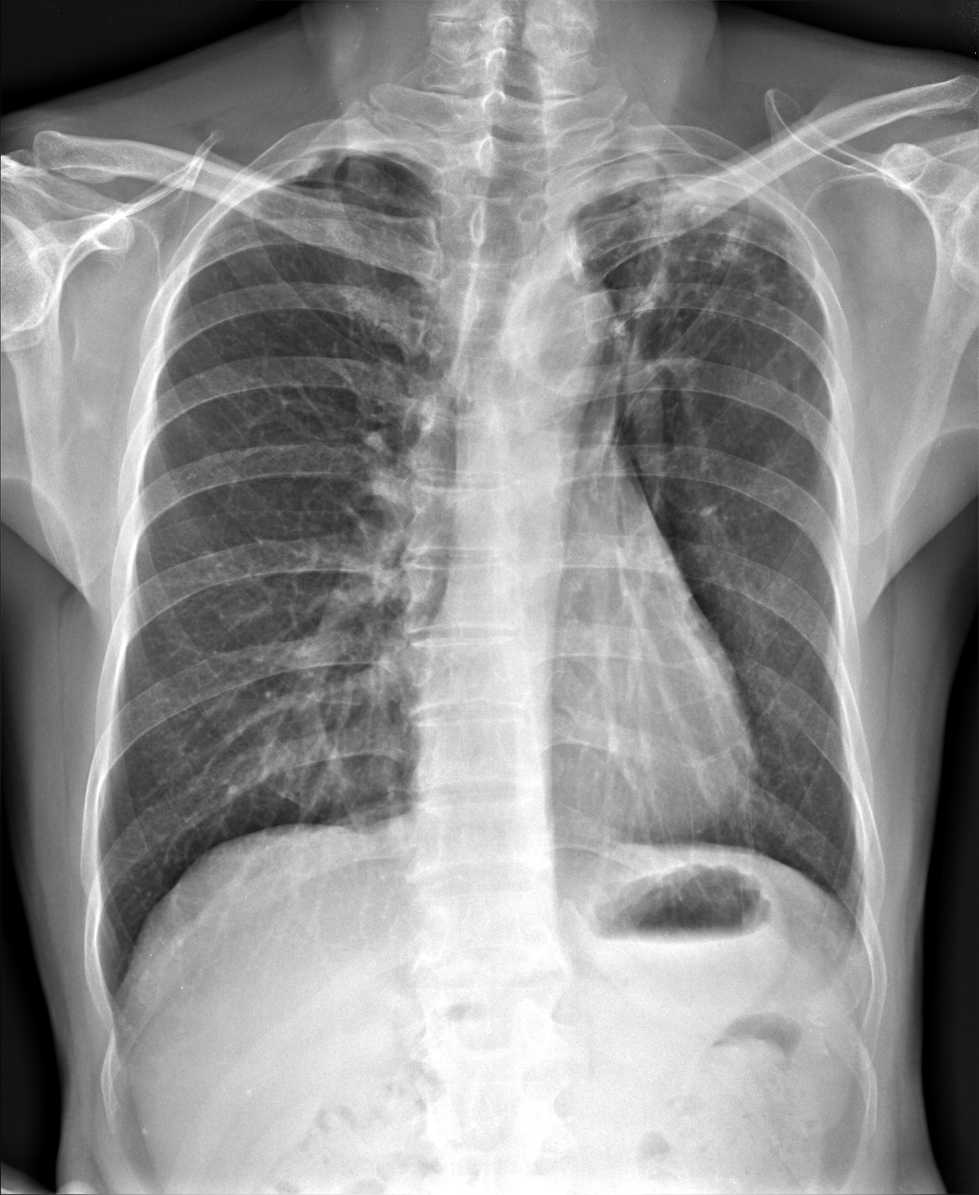Pulmonary fibrosis: (597, 165, 811, 330)
